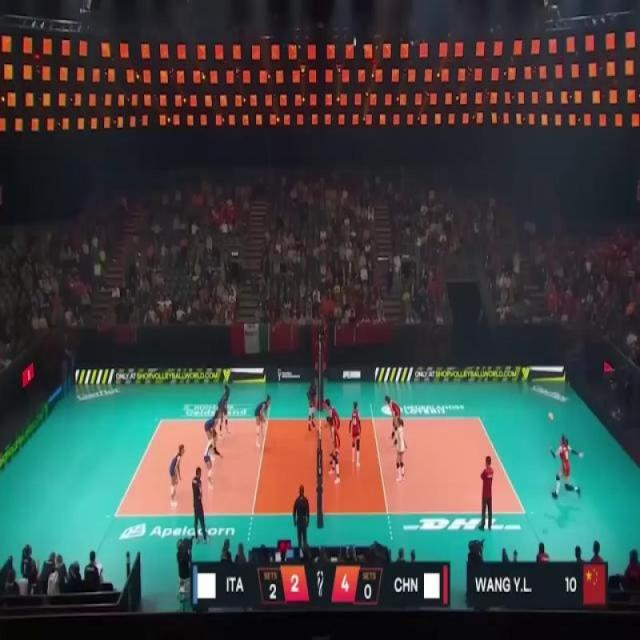volleyball: (548, 411, 554, 422)
